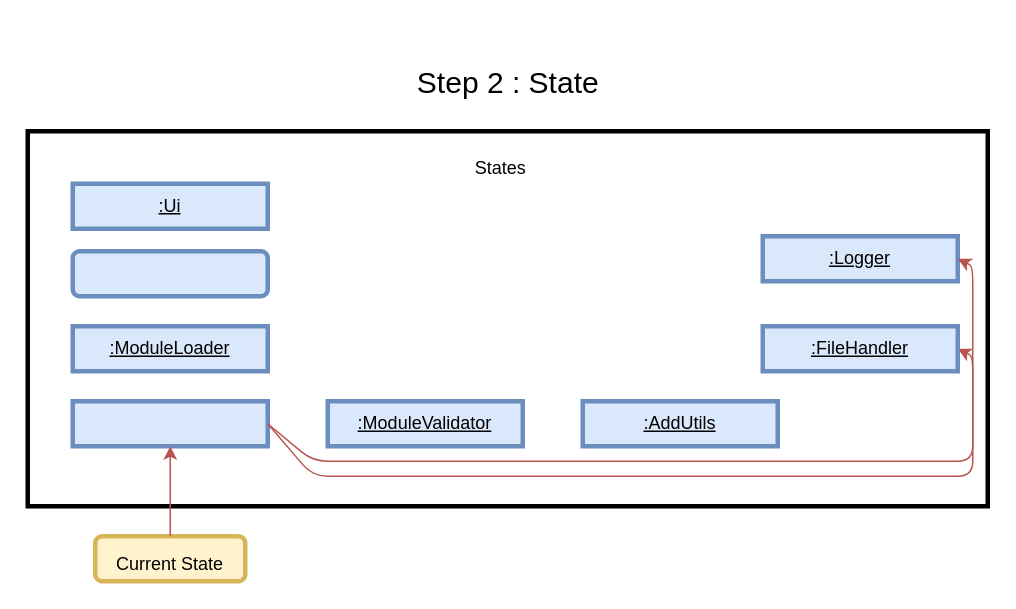
This 1016x609 diagram has some shape labels left out. The shapes that lost their labels are listed below. From the top down, each one's centre as x and y in pixels, then its label:
At (169,273): ":Person".
At (169,423): ":AddModuleCommand".
